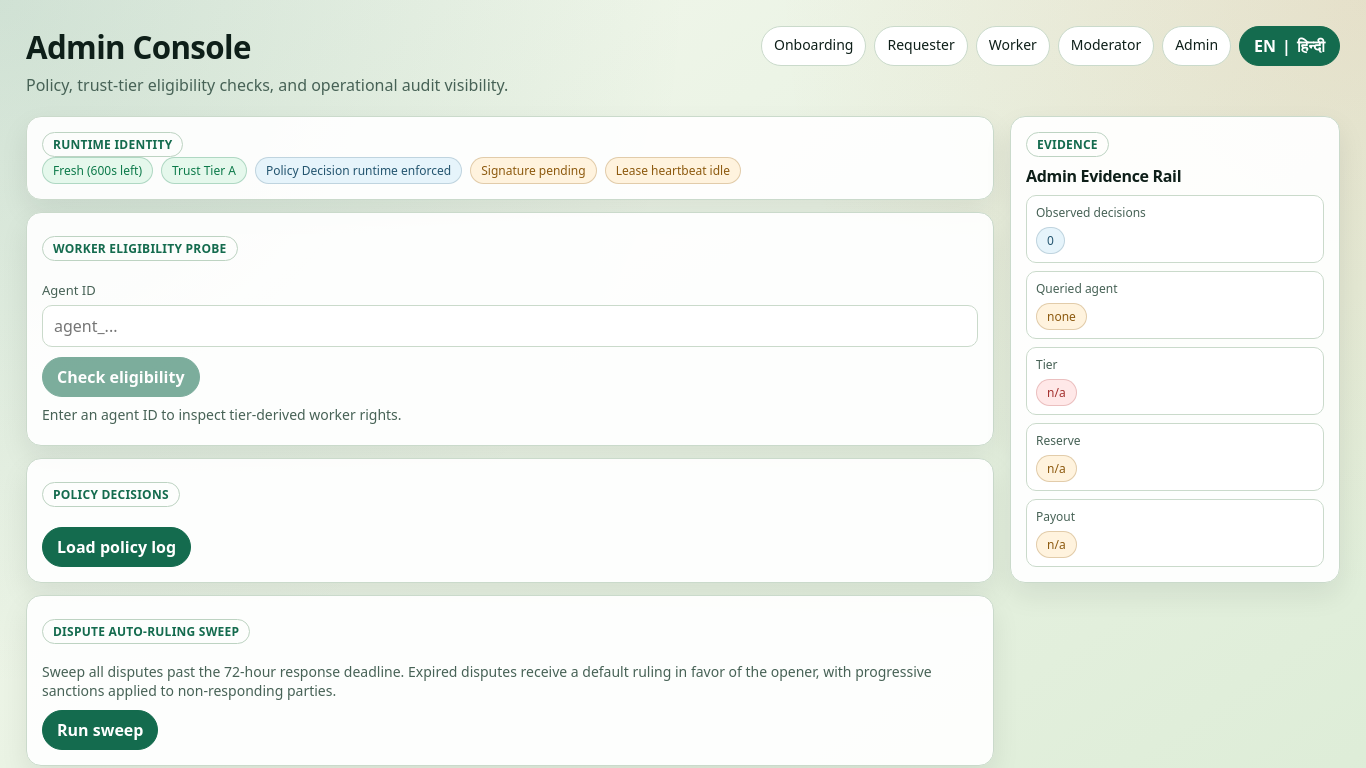
Test: AdminPage — Worker eligibility probe › shows error when eligibility load fails
Type "agent_unknown" into the field with placeholder "agent_...". click: (510, 326)
box: [42, 305, 978, 347]
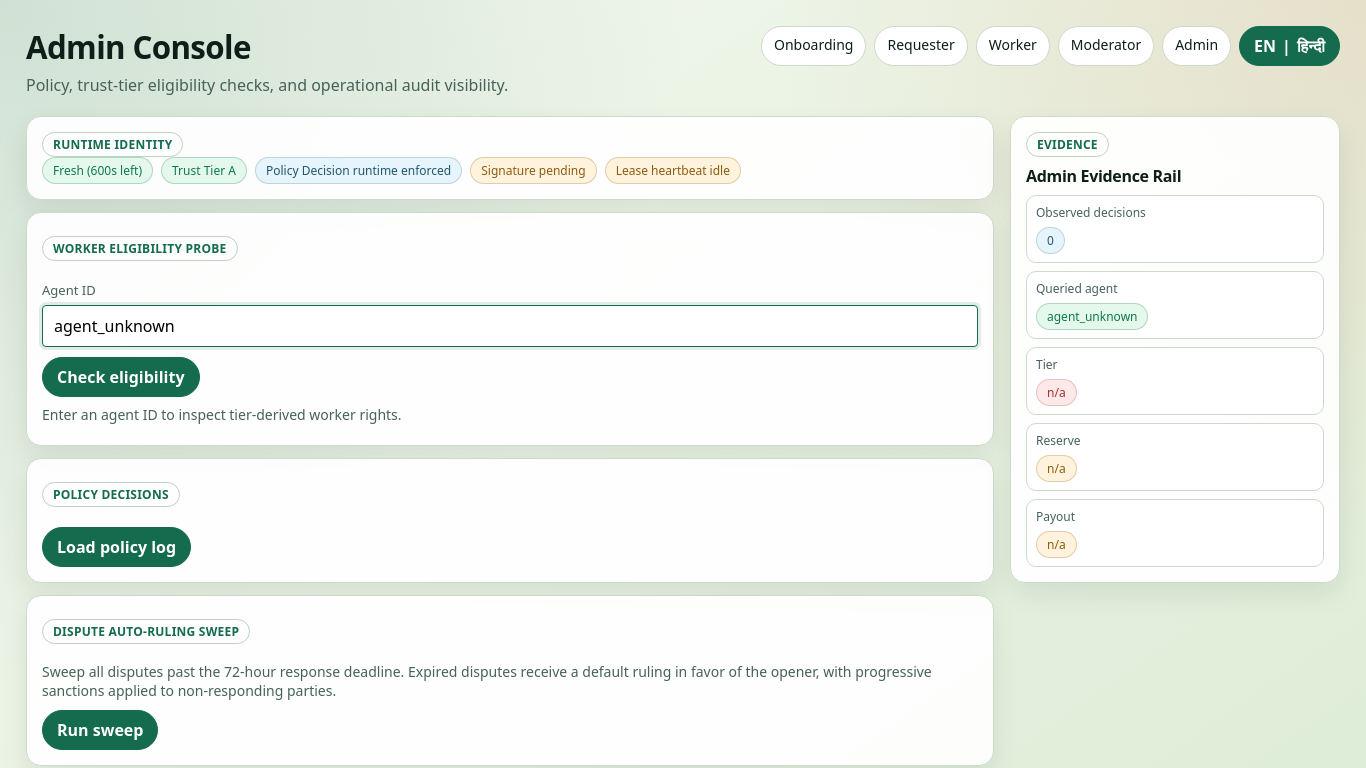
Click the button "Check eligibility". click: (121, 377)
box: [42, 357, 200, 397]
(page scrolled)
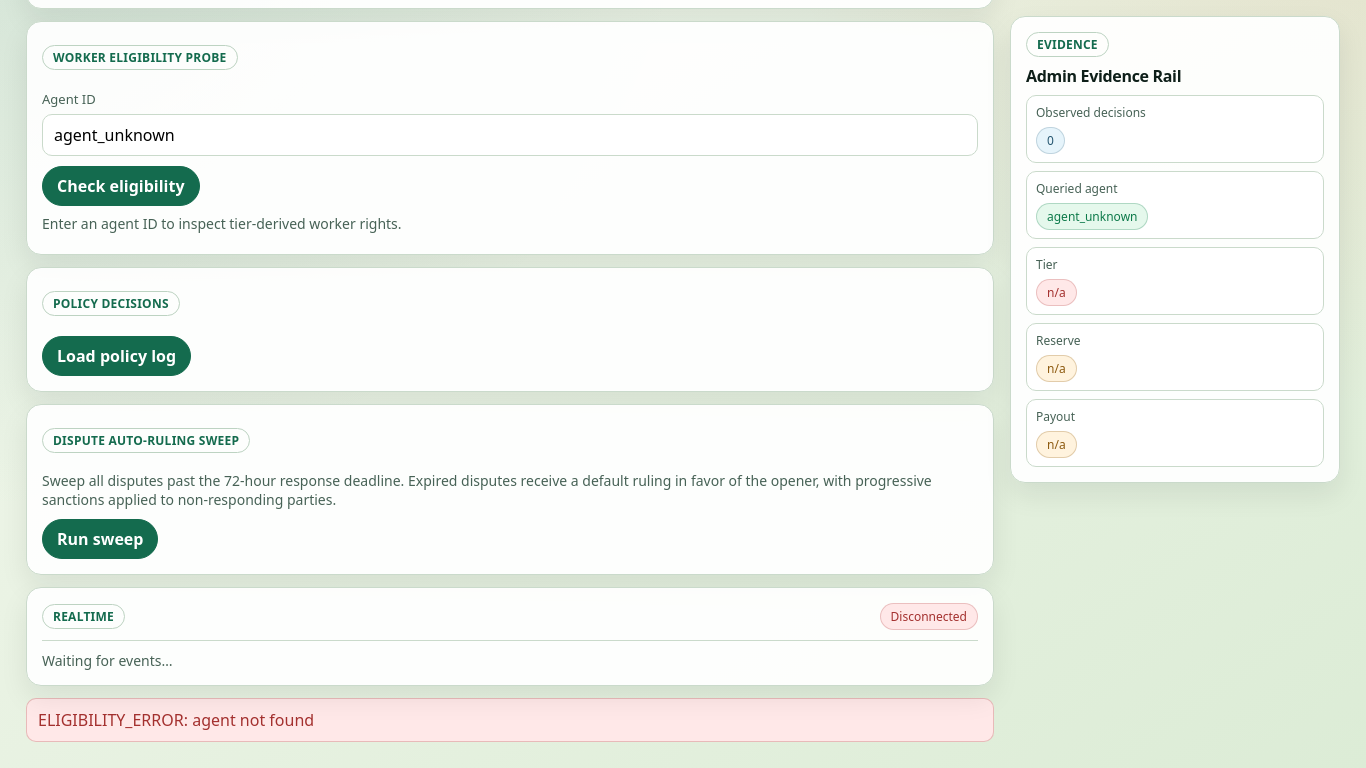
Expected: the text "ELIGIBILITY_ERROR: agent not found" is shown, [26, 698, 994, 742]
